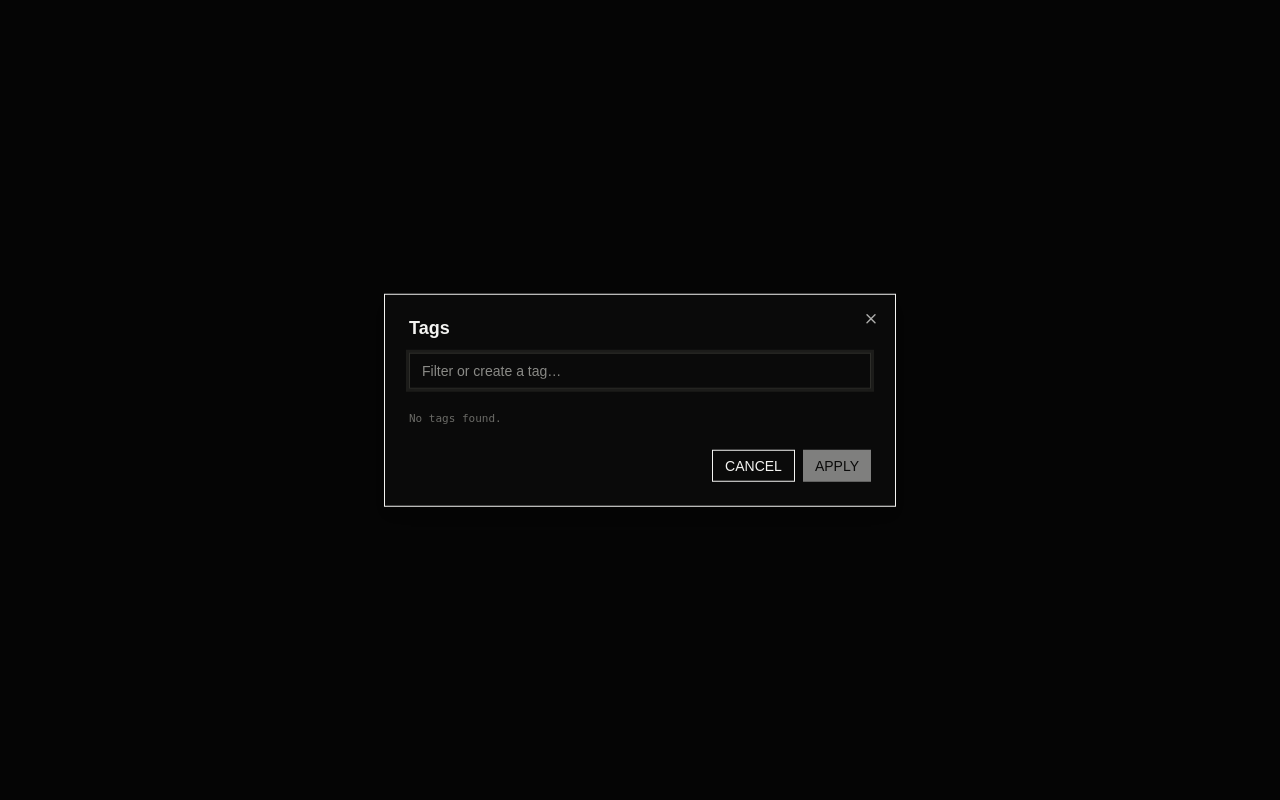
Test: clicking CREATE stages a new tag row and clears the input
The image size is (1280, 800).
Type "Sunset" into the field with placeholder "Filter or create a tag…". click: [640, 371]
box: [409,353,871,389]
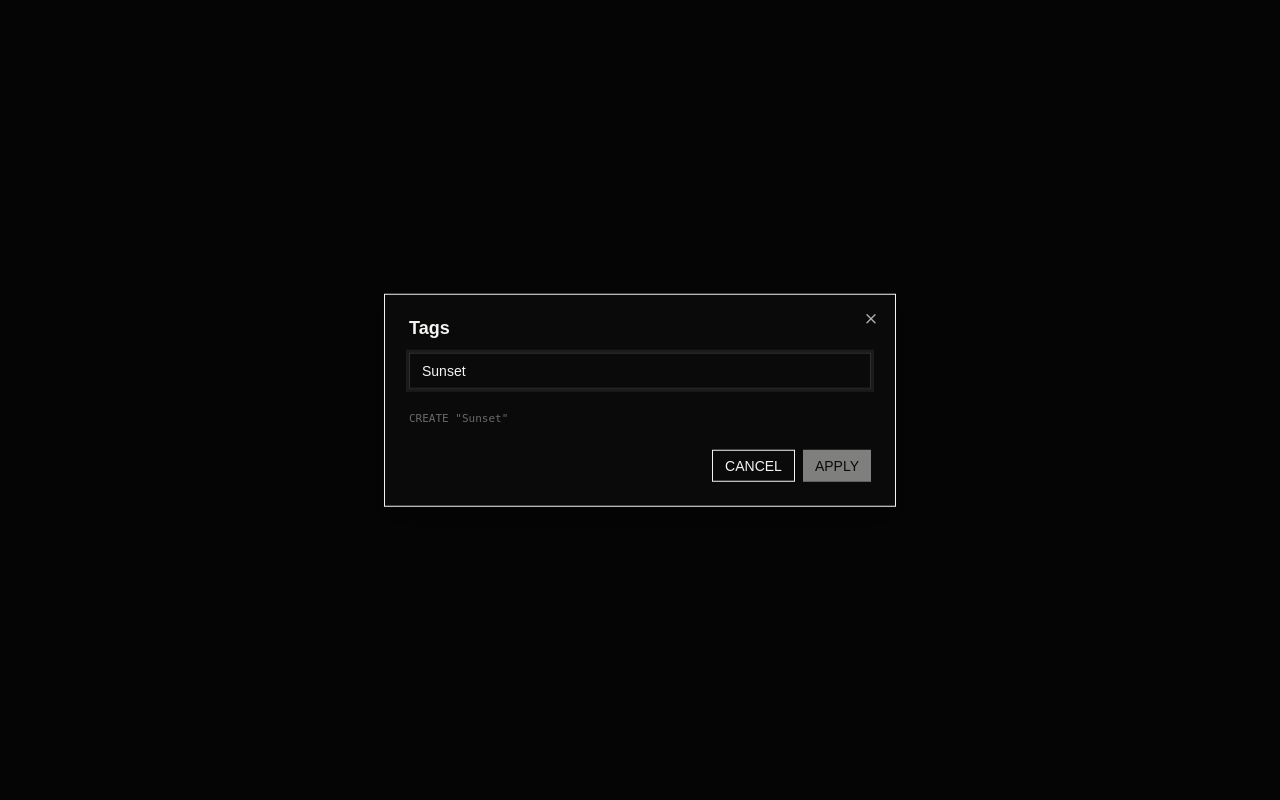
Click the button "CREATE \"Sunset\"". click: [435, 418]
box: [409,405,871,433]
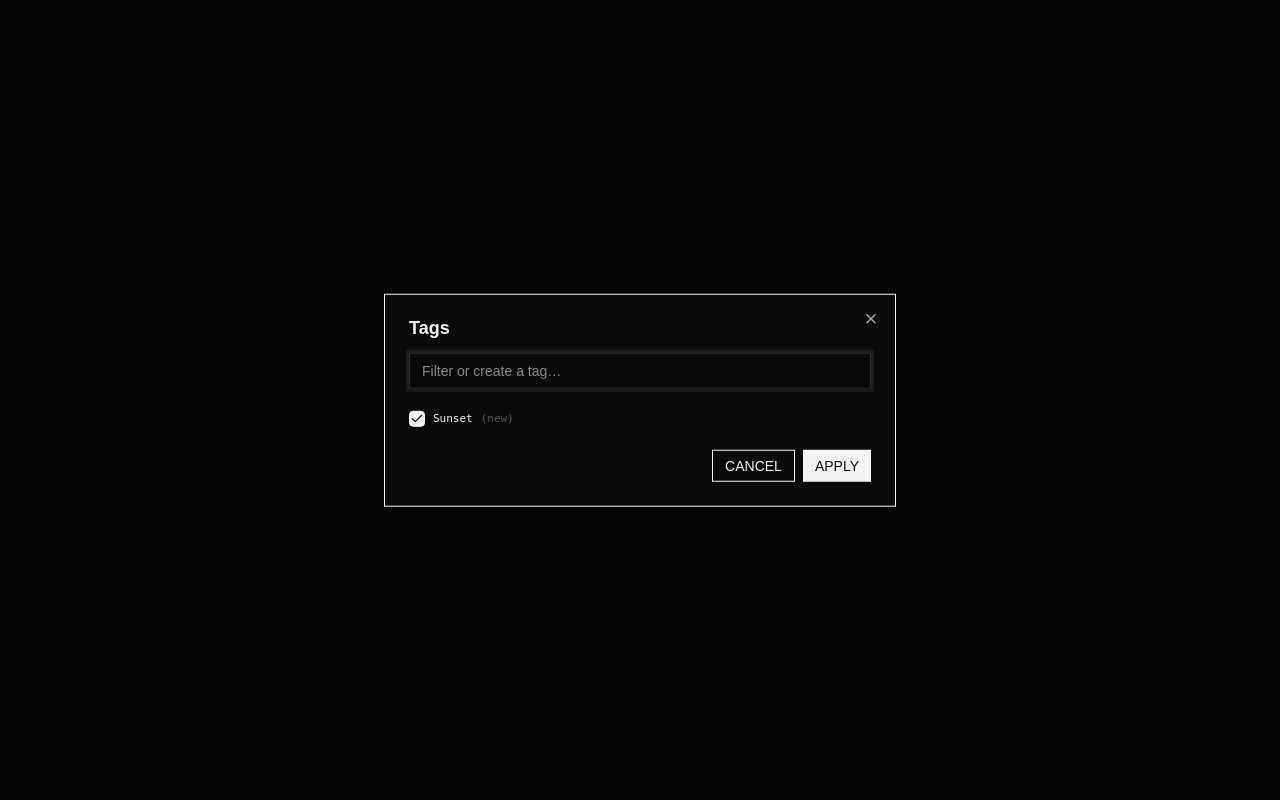
Now the text "Sunset" is shown, box [433,411,473,427]
Now the text "(new)" is shown, box [481,411,514,427]
Now the field with placeholder "Filter or create a tag…" is empty, box [409,353,871,389]
